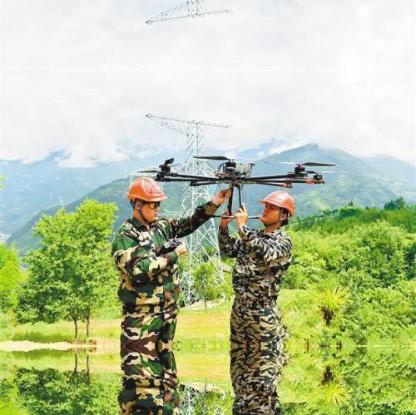Safety Helmet: (121, 171, 167, 233), (257, 188, 296, 236)
